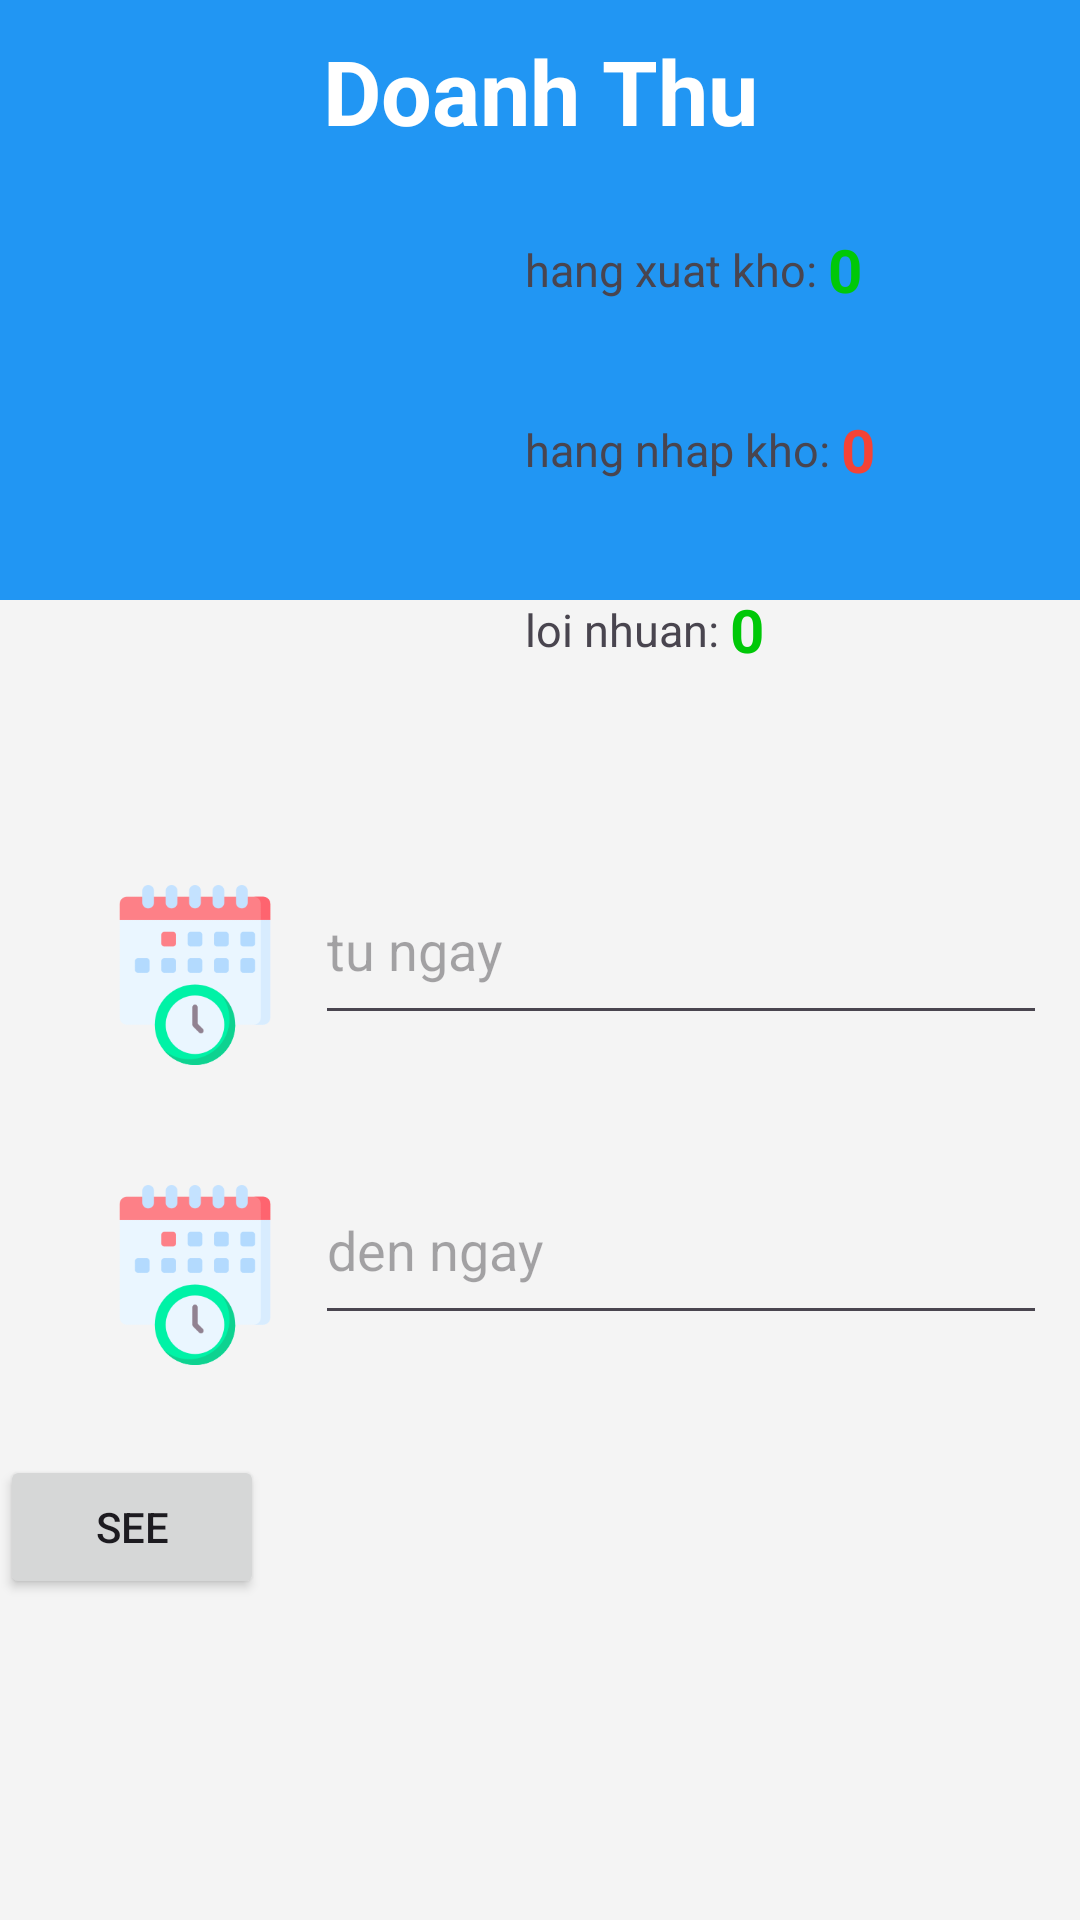

Named icons in this screenshot (1080x1920) and their centers, [x,y]:
date: [195,975], [195,1275]
